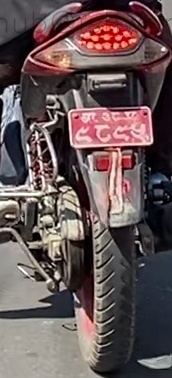license_plate: (68, 106, 153, 147)
